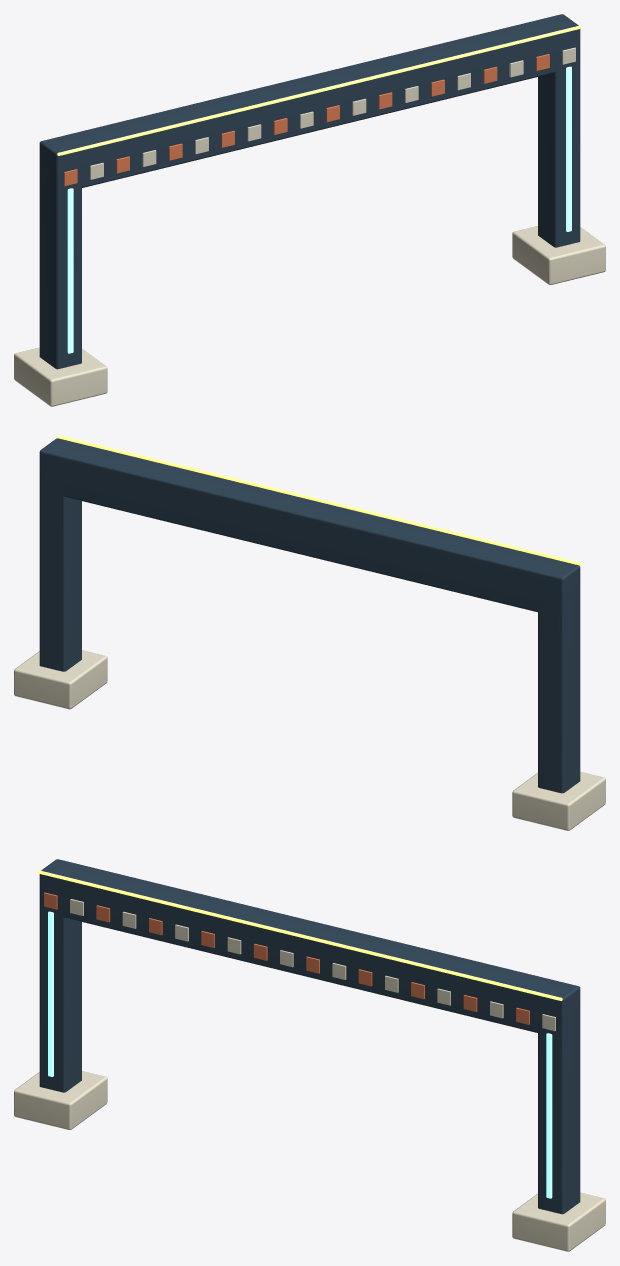
Rendered from festival-arch.glb.
The picture shows the model from 3 angles, top to bottom: view 1: azimuth 30°, elevation 25°; view 2: azimuth 150°, elevation 25°; view 3: azimuth 330°, elevation 25°; orthographic projection.
Parts seen in each view (by area): view 1: Bridge beam, Arch leg, Arch leg.001, Arch pedestal.001, Arch pedestal, Warm bridge trim, Illuminated inset, Illuminated inset.001; view 2: Bridge beam, Arch leg, Arch leg.001, Arch pedestal.001, Arch pedestal, Warm bridge trim; view 3: Bridge beam, Arch leg.001, Arch leg, Arch pedestal, Arch pedestal.001, Warm bridge trim, Illuminated inset.001, Illuminated inset.
Part boxes in pixels (left/top/right/bottom): Bridge beam: left=39, top=14, right=580, bottom=191; Arch leg: left=39, top=166, right=81, bottom=369; Arch leg.001: left=538, top=50, right=580, bottom=247; Arch pedestal.001: left=512, top=226, right=605, bottom=284; Arch pedestal: left=14, top=347, right=107, bottom=406; Warm bridge trim: left=57, top=25, right=582, bottom=155; Illuminated inset: left=67, top=188, right=73, bottom=353; Illuminated inset.001: left=566, top=66, right=571, bottom=231; Bridge beam: left=39, top=438, right=580, bottom=616; Arch leg: left=538, top=590, right=580, bottom=793; Arch leg.001: left=39, top=475, right=81, bottom=671; Arch pedestal.001: left=14, top=650, right=107, bottom=709; Arch pedestal: left=512, top=771, right=605, bottom=830; Warm bridge trim: left=57, top=435, right=582, bottom=565; Bridge beam: left=39, top=859, right=580, bottom=1036; Arch leg.001: left=538, top=1011, right=580, bottom=1214; Arch leg: left=39, top=895, right=81, bottom=1092; Arch pedestal: left=14, top=1071, right=107, bottom=1129; Arch pedestal.001: left=512, top=1192, right=605, bottom=1251; Warm bridge trim: left=37, top=870, right=562, bottom=1000; Illuminated inset.001: left=546, top=1033, right=552, bottom=1198; Illuminated inset: left=48, top=911, right=53, bottom=1076.
Size of the model in its own units: 21.2 by 8.91 by 2.5.
